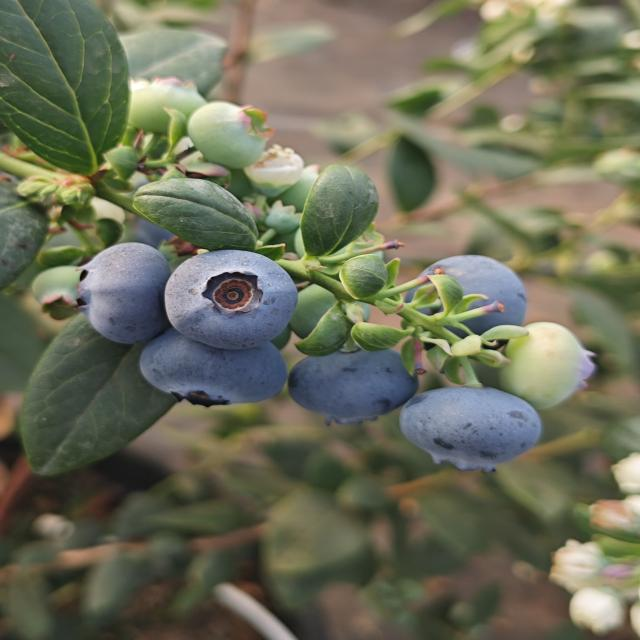ripe: (137, 317, 300, 409), (161, 247, 300, 351), (397, 384, 544, 475), (404, 253, 529, 343), (286, 344, 420, 426), (71, 241, 172, 346)
